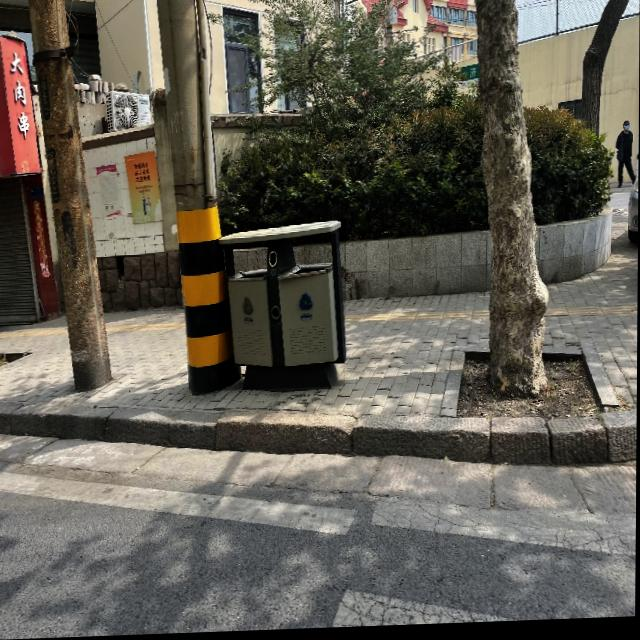garbage_bin: (219, 222, 347, 393)
